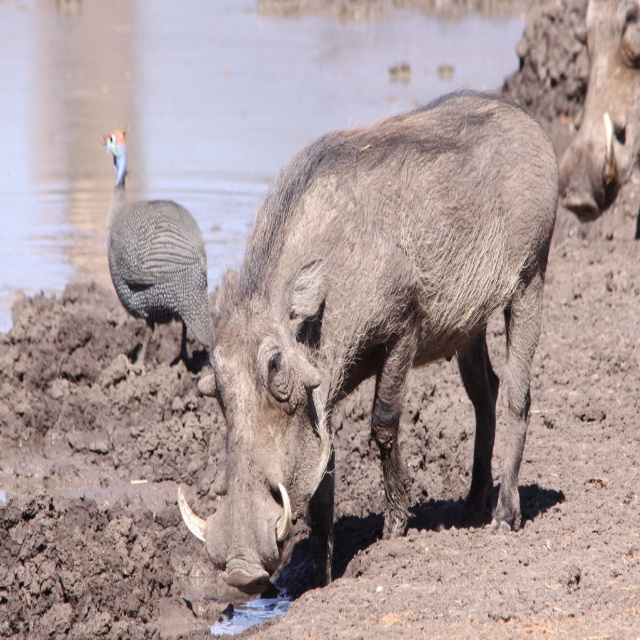Pig: (177, 89, 558, 594), (557, 0, 640, 237)
